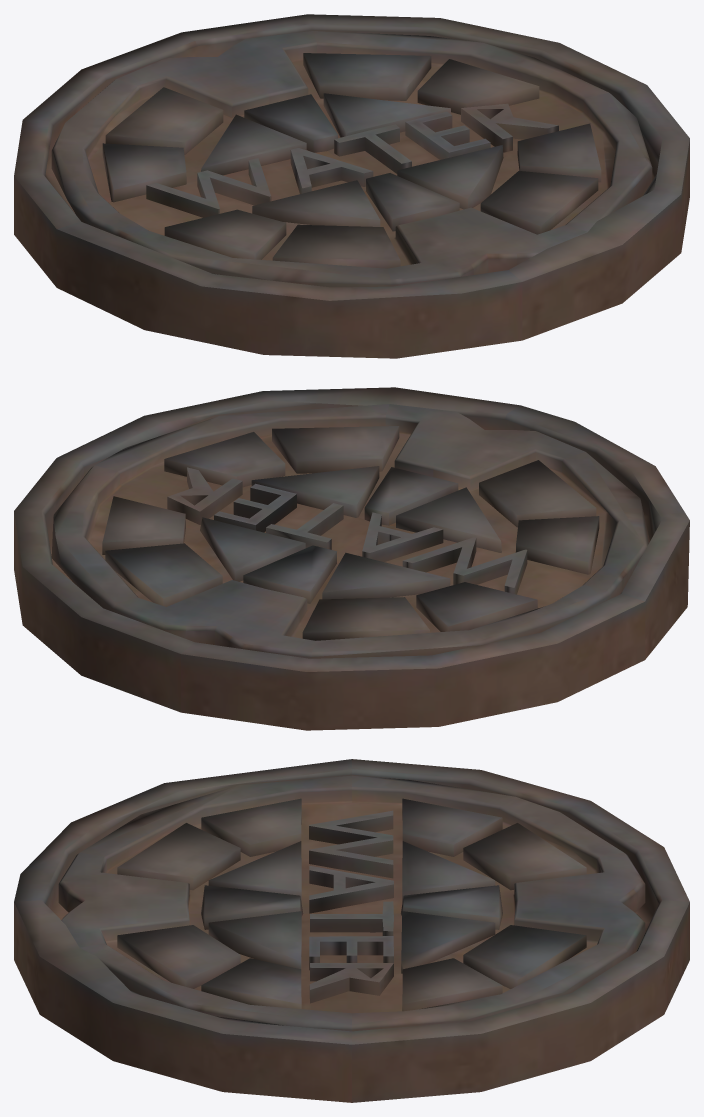
The model's file is water_manhole_cover.glb.
3 views of the same model, one above another, from view 1: azimuth 30°, elevation 25°; view 2: azimuth 150°, elevation 25°; view 3: azimuth 270°, elevation 25° (orthographic).
Parts seen in each view (by area): view 1: water_manhole_cover, water_manhole_cover_frame; view 2: water_manhole_cover, water_manhole_cover_frame; view 3: water_manhole_cover, water_manhole_cover_frame.
Boxes of the visible parts, bbox=[...] form: water_manhole_cover: bbox=[51, 31, 652, 287]; water_manhole_cover_frame: bbox=[14, 14, 689, 358]; water_manhole_cover: bbox=[51, 404, 649, 658]; water_manhole_cover_frame: bbox=[14, 387, 689, 730]; water_manhole_cover: bbox=[58, 775, 645, 1031]; water_manhole_cover_frame: bbox=[14, 759, 689, 1102].
Bounding box in the file's own units: 0.6908 × 0.0676 × 0.6908.
1 material, 1 textured.
